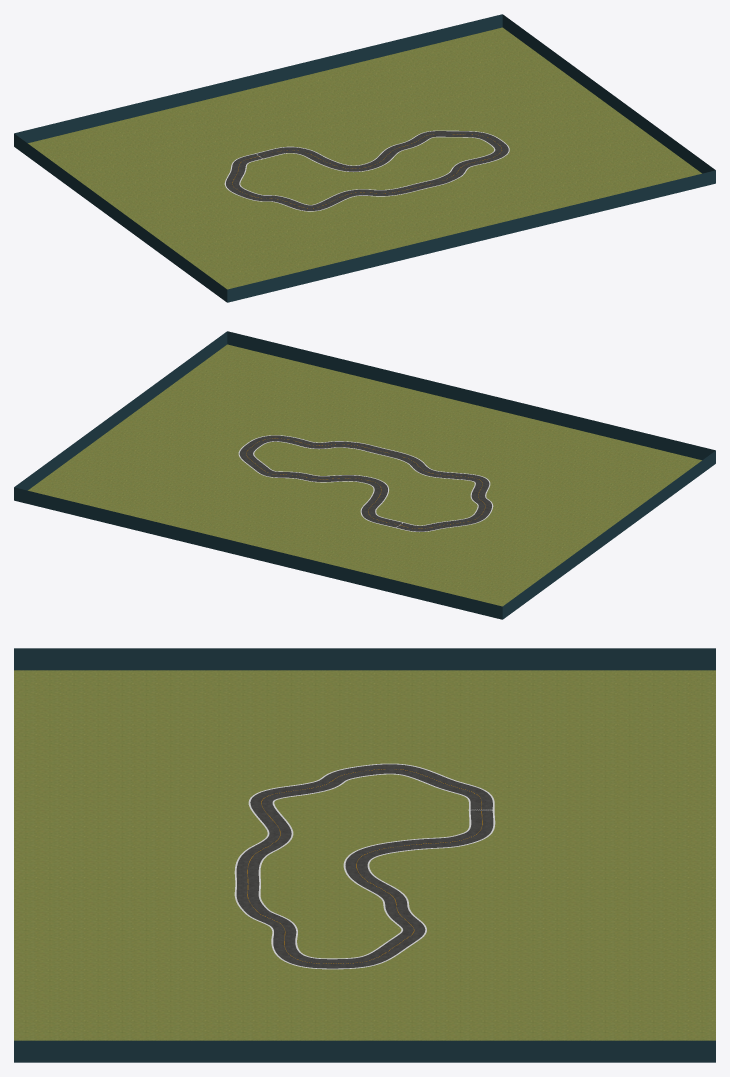
Rendered from Albert.dae.
The picture shows the model from 3 angles, top to bottom: view 1: azimuth 30°, elevation 25°; view 2: azimuth 150°, elevation 25°; view 3: azimuth 270°, elevation 25°; orthographic projection. The views are drawn at different scales.
Parts seen in each view (by area): view 1: field, wall, road, il, ol; view 2: field, wall, road, il, ol; view 3: field, wall, road, il, ol.
Part boxes in pixels (x1,y1,x2,y2): field: (28,27,701,289); wall: (14,14,715,302); road: (226,131,508,210); il: (224,130,509,211); ol: (239,136,495,205); field: (28,344,701,606); wall: (14,331,715,619); road: (239,435,491,531); il: (238,435,493,532); ol: (253,441,478,525); field: (14,670,715,1040); wall: (14,648,715,1062); road: (236,764,493,968); il: (234,763,495,969); ol: (258,773,471,959).
Size of the model in its own units: 38.44 by 29.06 by 1.
7 materials, 7 textured.
